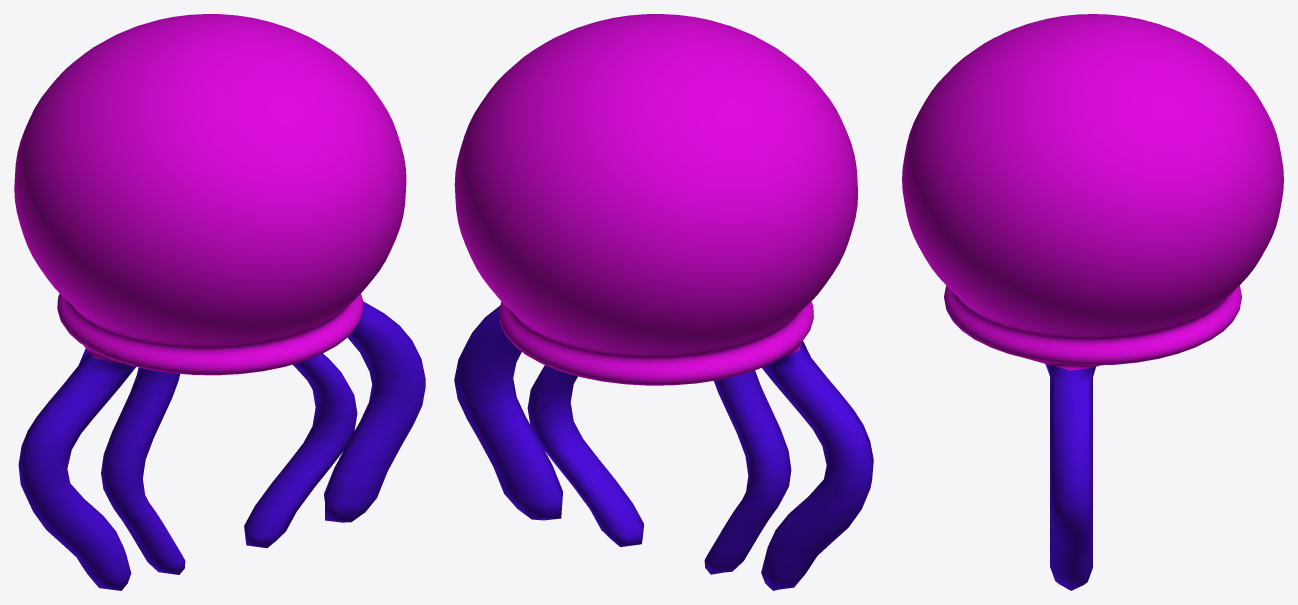
The model's file is SkullJelly.fbx.
3 renders of one model, left to right at view 1: azimuth 30°, elevation 25°; view 2: azimuth 150°, elevation 25°; view 3: azimuth 270°, elevation 25°, orthographic. The views are drawn at different scales.
Parts seen in each view (by area): view 1: SkullJelly; view 2: SkullJelly; view 3: SkullJelly.
Boxes of the visible parts, x1,y1,x2,y2 form: SkullJelly: (14,14,425,590); SkullJelly: (454,14,873,590); SkullJelly: (902,14,1283,590).
Bounding box in the file's own units: 10.35 × 12.79 × 8.75.
